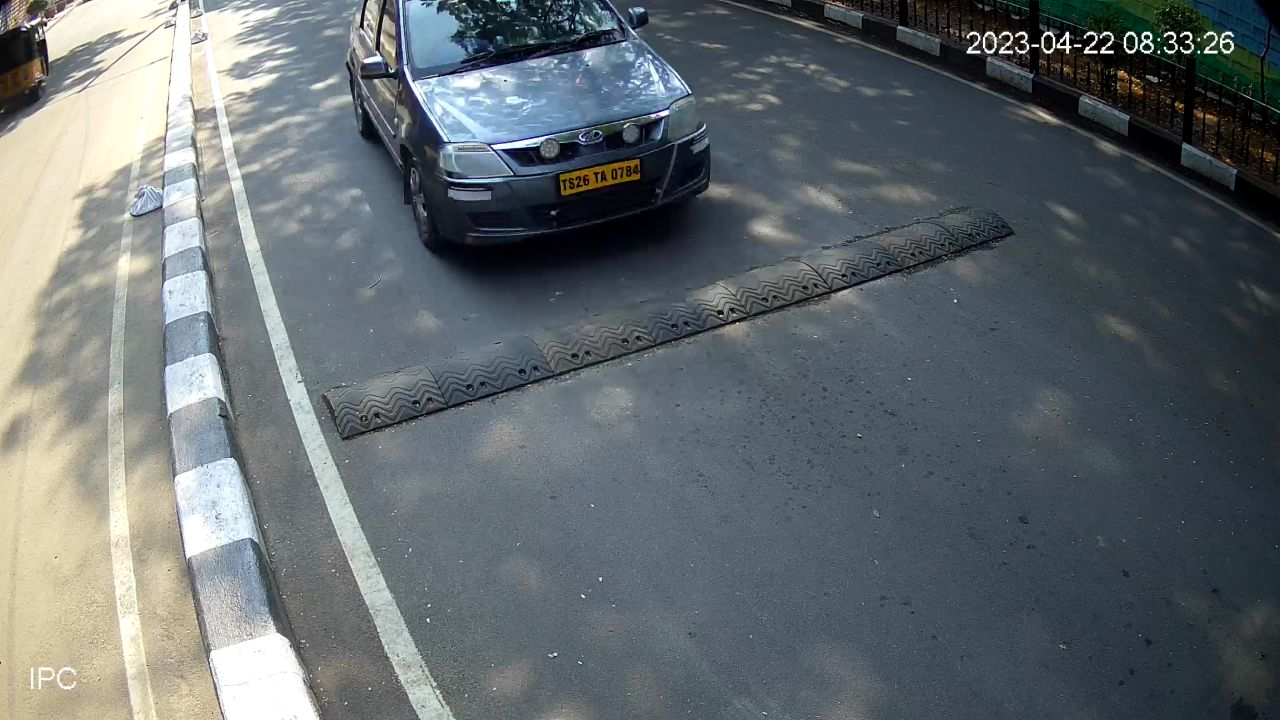license_plate: (553, 152, 644, 201)
